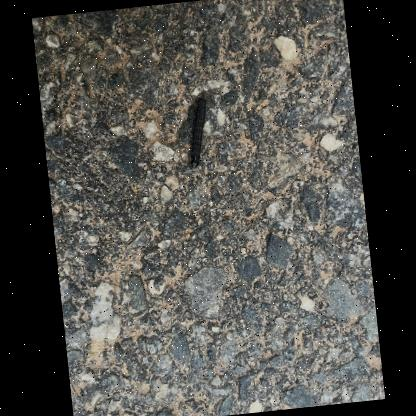Fall Armyworm Larvae: (182, 93, 216, 170)
